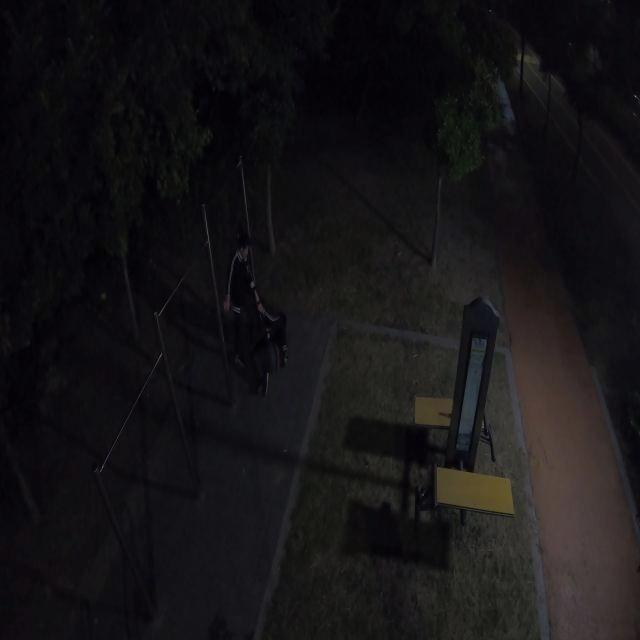fight: (218, 236, 292, 395)
